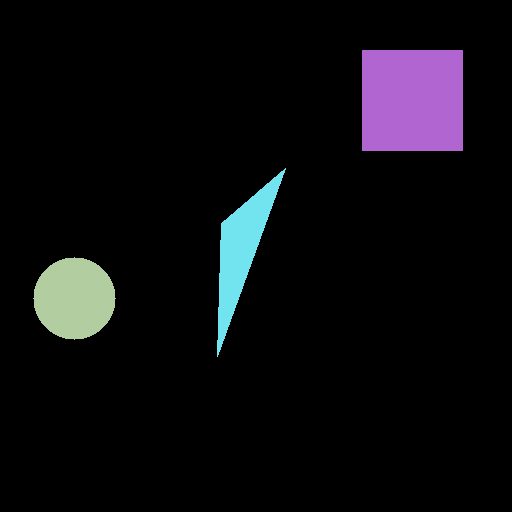circle: (33, 257, 115, 339)
square: (362, 50, 462, 150)
triangle: (217, 168, 285, 356)
